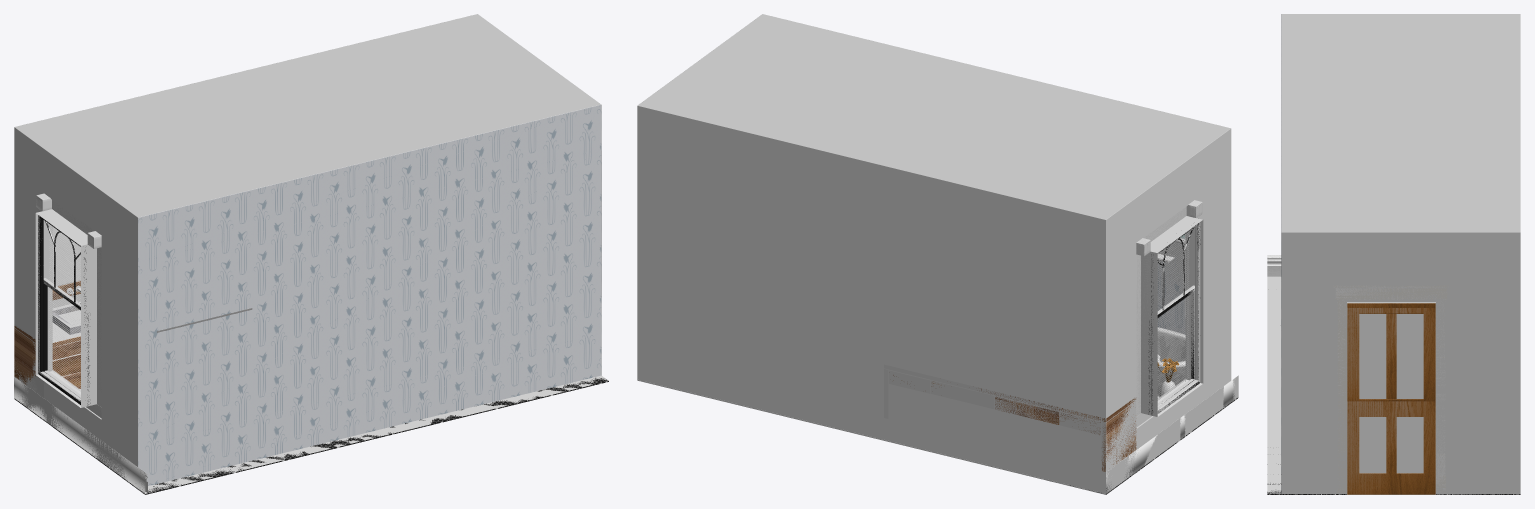
Rendered from bathroom.glb.
3 views of the same model, side by side, from view 1: azimuth 30°, elevation 25°; view 2: azimuth 150°, elevation 25°; view 3: azimuth 270°, elevation 25° (orthographic). The views are drawn at different scales.
Visible parts, largest first — view 1: bathroom_static, COL_static; view 2: bathroom_static, COL_static; view 3: bathroom_static, DYN_door_hall, I_door_hall, COL_static.
Part boxes in pixels (left/top/right/bottom): bathroom_static: left=14, top=14, right=608, bottom=494; COL_static: left=14, top=151, right=607, bottom=492; bathroom_static: left=637, top=14, right=1238, bottom=494; COL_static: left=637, top=200, right=1238, bottom=494; bathroom_static: left=1267, top=14, right=1520, bottom=494; DYN_door_hall: left=1347, top=303, right=1435, bottom=494; I_door_hall: left=1347, top=302, right=1435, bottom=494; COL_static: left=1267, top=255, right=1520, bottom=494.
Size of the model in its own units: 5.19 by 2.82 by 2.45.
37 materials, 12 textured.
